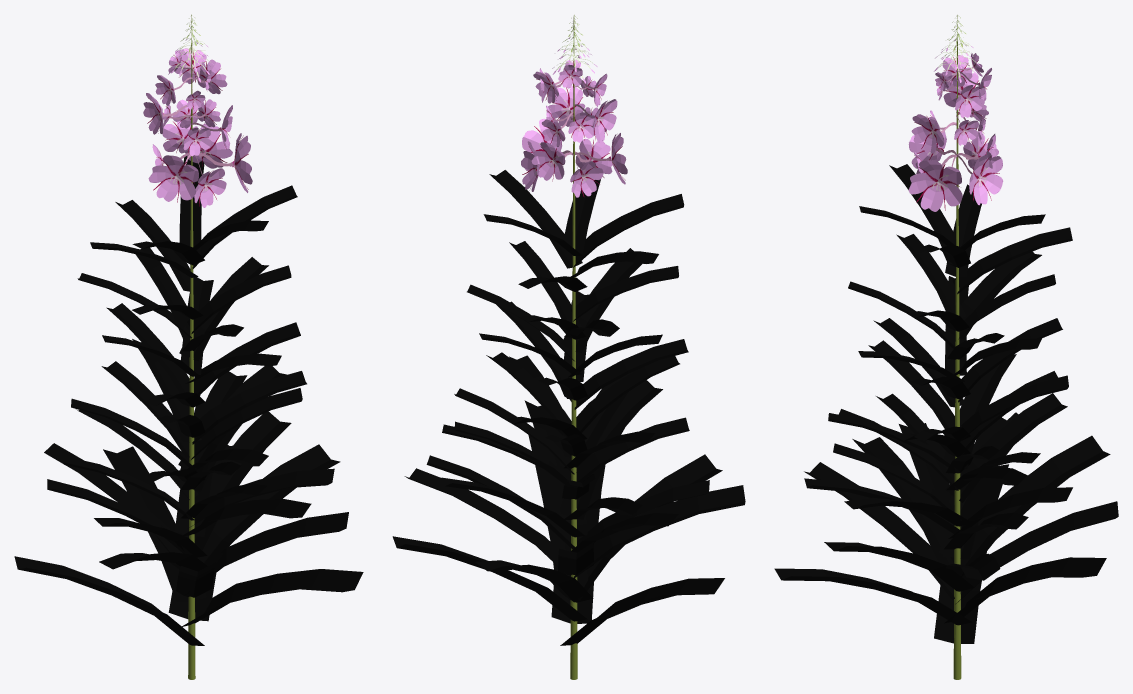
File: FIREWEED.fbx
3 views of the same model, side by side, from view 1: azimuth 30°, elevation 25°; view 2: azimuth 150°, elevation 25°; view 3: azimuth 270°, elevation 25° (orthographic).
Visible parts, largest first — view 1: leaf.048, flower.017, plantstem, flowerstem; view 2: leaf.048, flower.017, plantstem; view 3: leaf.048, flower.017, plantstem, flowerstem.
Part boxes in pixels (box(x1,y1,x2,y2)): leaf.048: box(14, 156, 363, 645); flower.017: box(143, 48, 252, 207); plantstem: box(188, 14, 195, 679); flowerstem: box(162, 64, 234, 174); leaf.048: box(392, 170, 745, 645); flower.017: box(521, 60, 627, 197); plantstem: box(570, 15, 577, 679); leaf.048: box(774, 164, 1118, 643); flower.017: box(908, 53, 1003, 211); plantstem: box(953, 15, 961, 679); flowerstem: box(936, 66, 985, 185).
Size of the model in its own units: 90.91 by 185 by 87.03.
